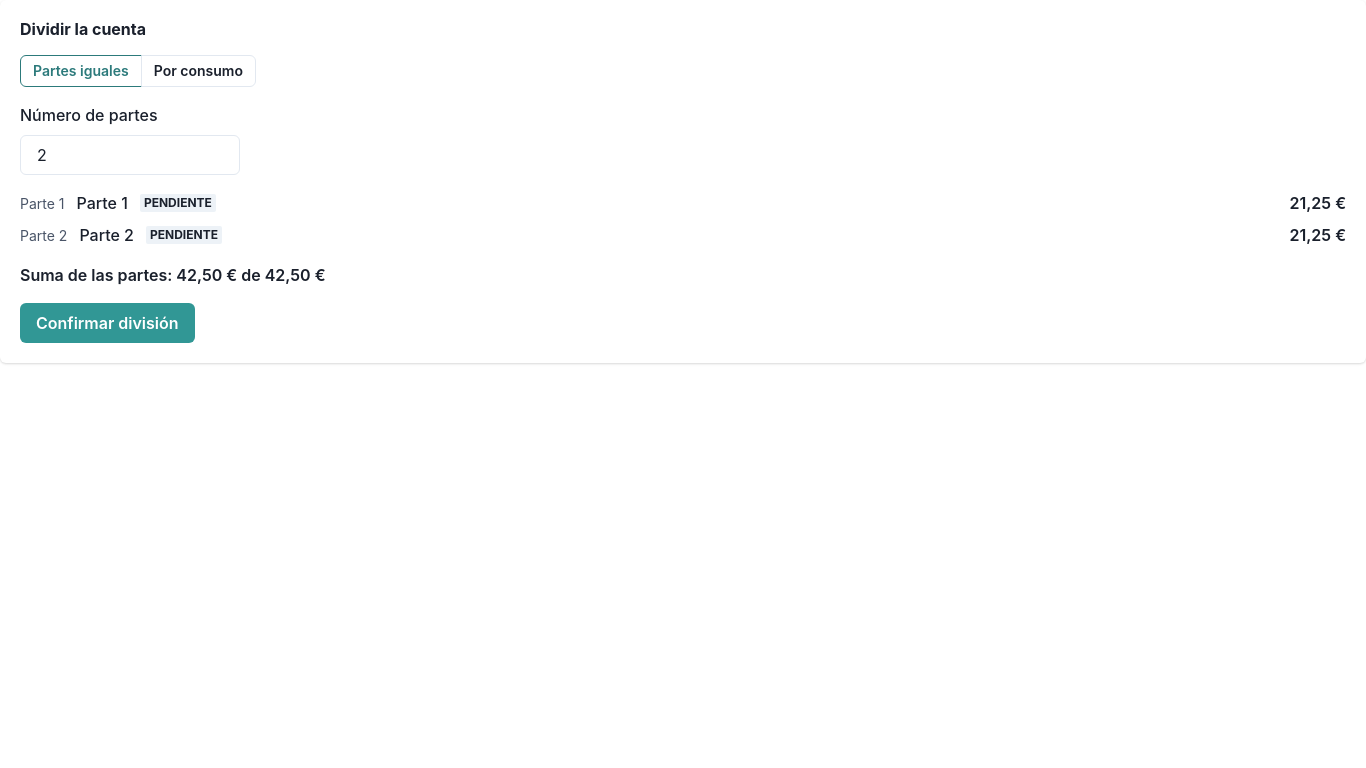
Test: DivisionCuenta › permite dividir por consumo y repartir un plato entre varias partes
Click the button "Por consumo": (198, 71) [141,55,256,87]
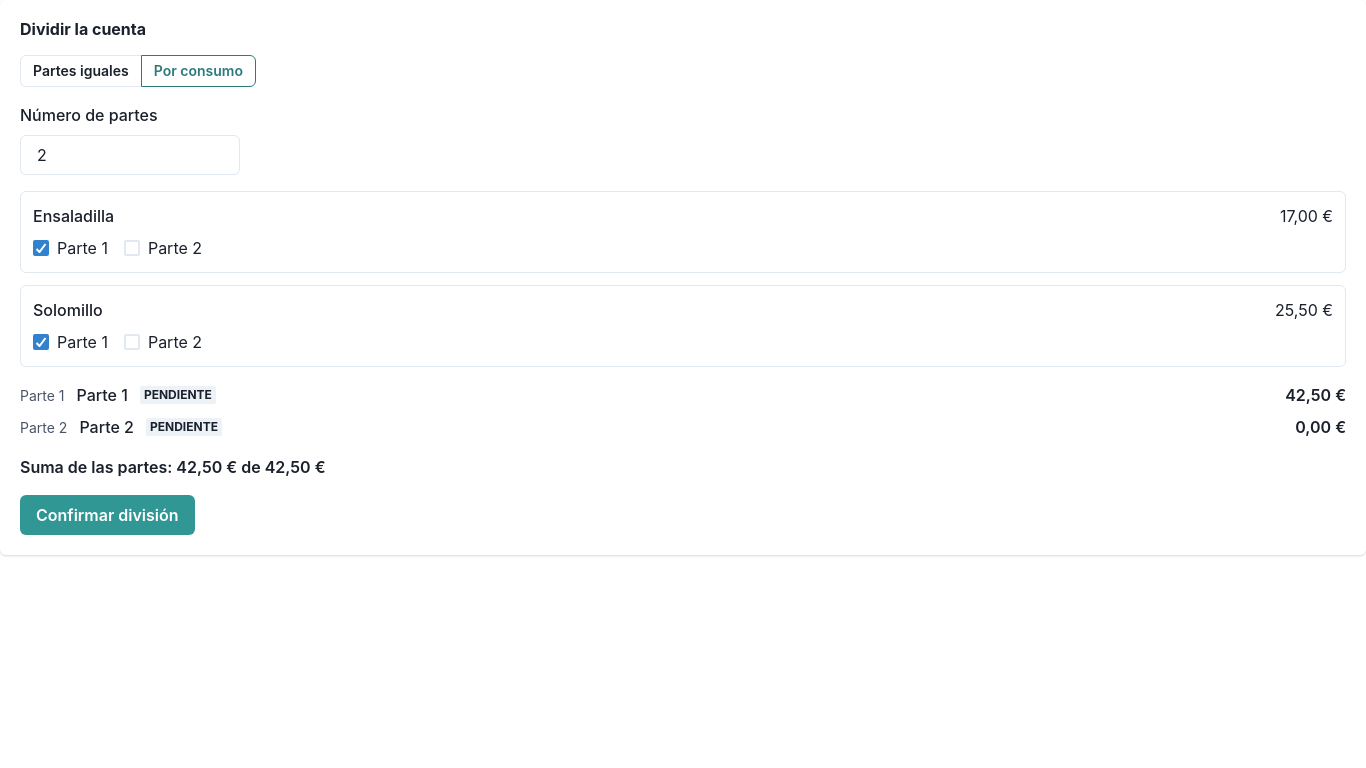
Check: the text "Ensaladilla" is shown, box [33,204,114,228]
Check: the text "Solomillo" is shown, box [33,298,103,322]
Click the checkbox named "asignar ensaladilla a la parte 2": (163, 248) [124,236,202,260]
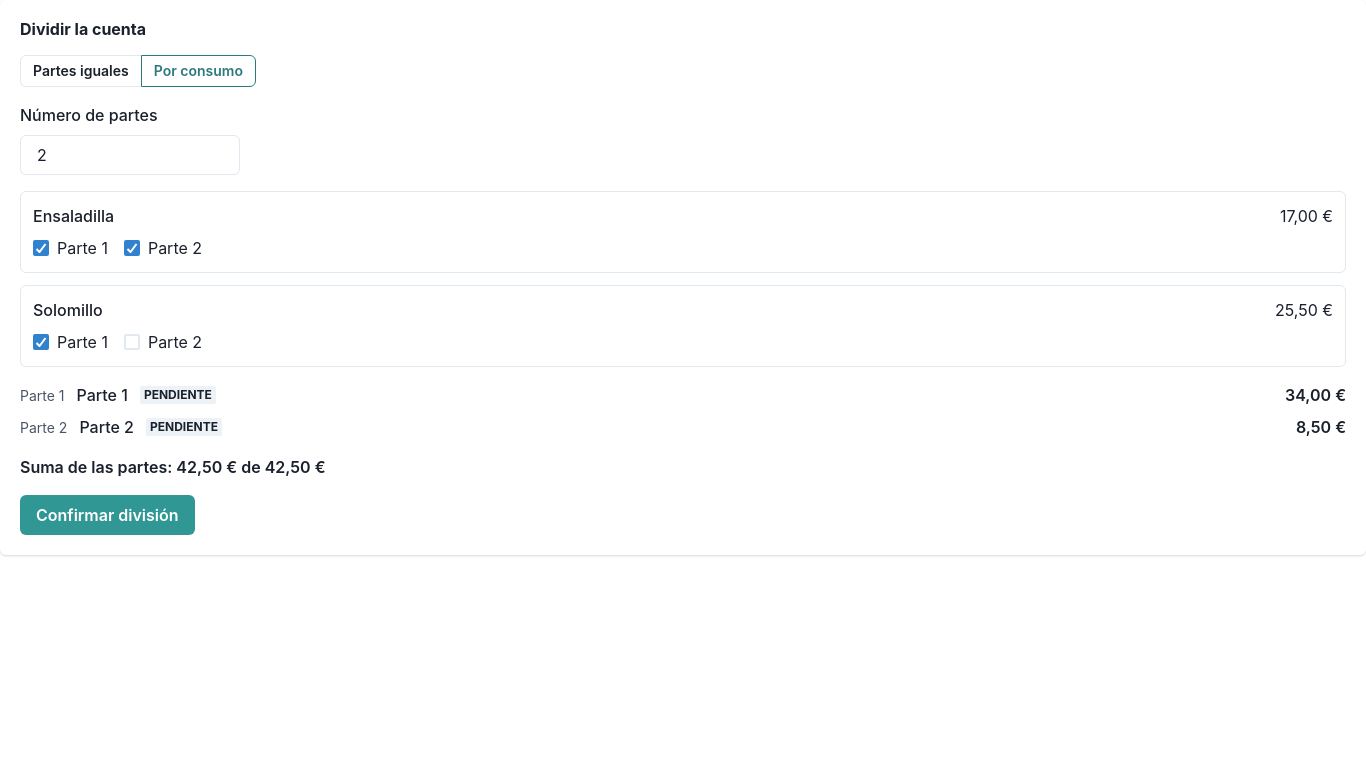
Check: the text "Suma de las partes: 42,50 € de 42,50 €" is shown, box [20,457,326,477]
Check: the text "34,00 €" is shown, box [1285,383,1346,407]
